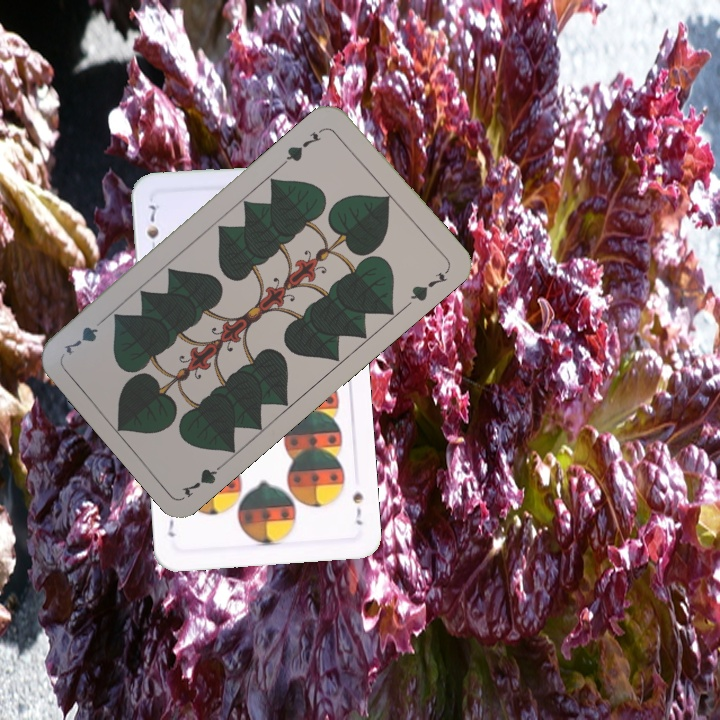G7: (177, 456, 231, 500), (279, 128, 324, 167)
S7: (143, 200, 162, 257), (348, 488, 366, 528)
